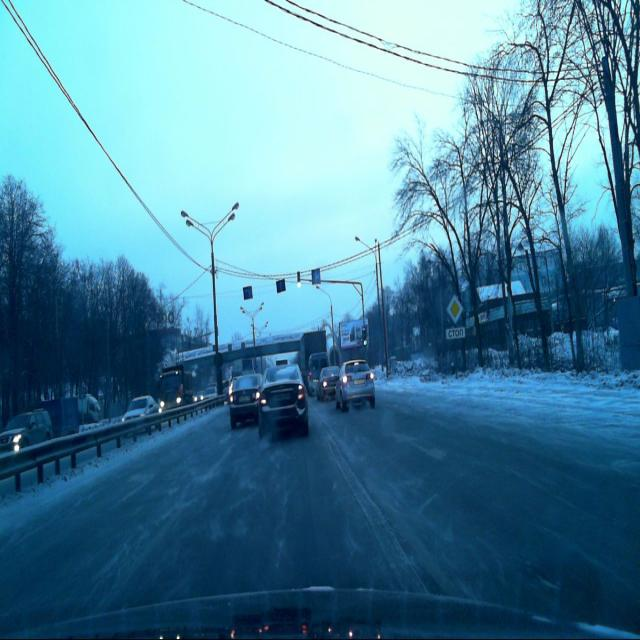object: (443, 327, 465, 341)
road sign: (446, 294, 463, 324)
